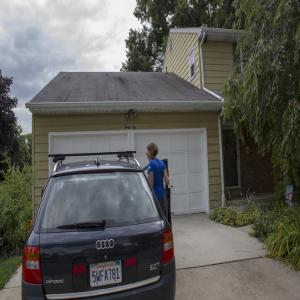Vehicle-registration-plate: (90, 264, 122, 289)
